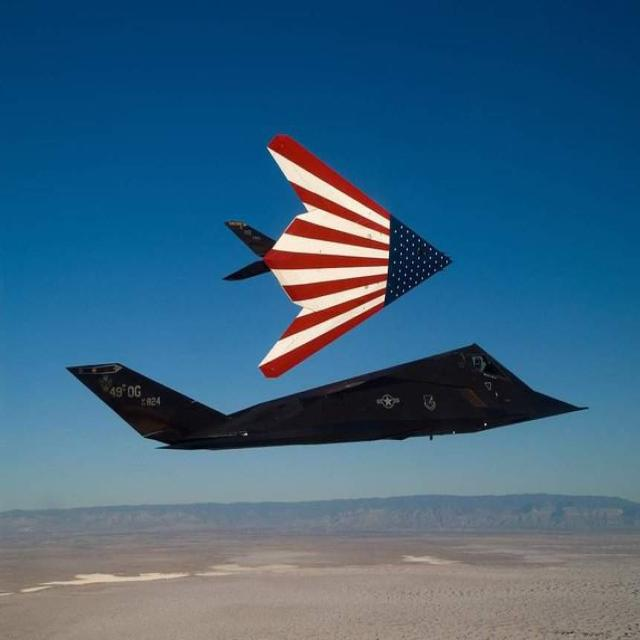F117: (60, 353, 640, 510), (200, 96, 474, 394)
